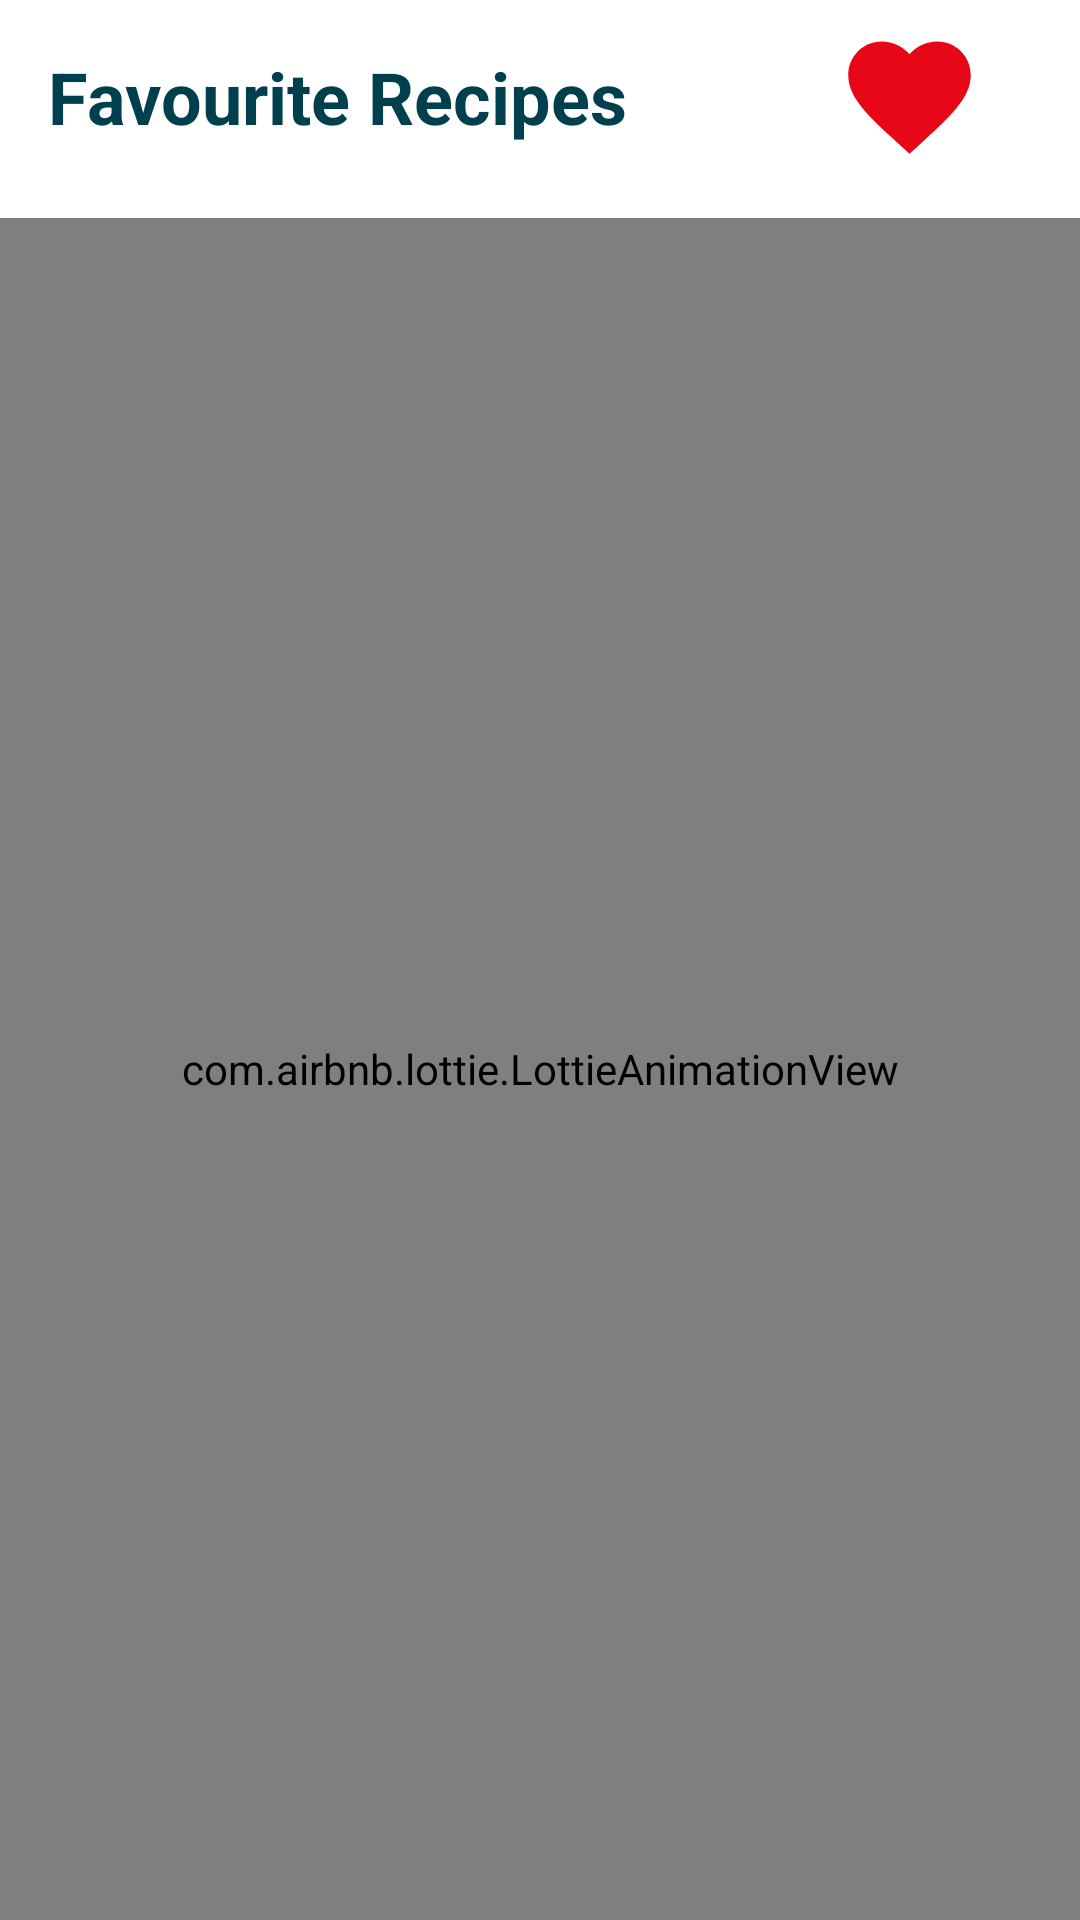

Point at icon controls on the screen. Image size 1080*1920, points as (x=x, y=y).
favorite: (x=909, y=97)
